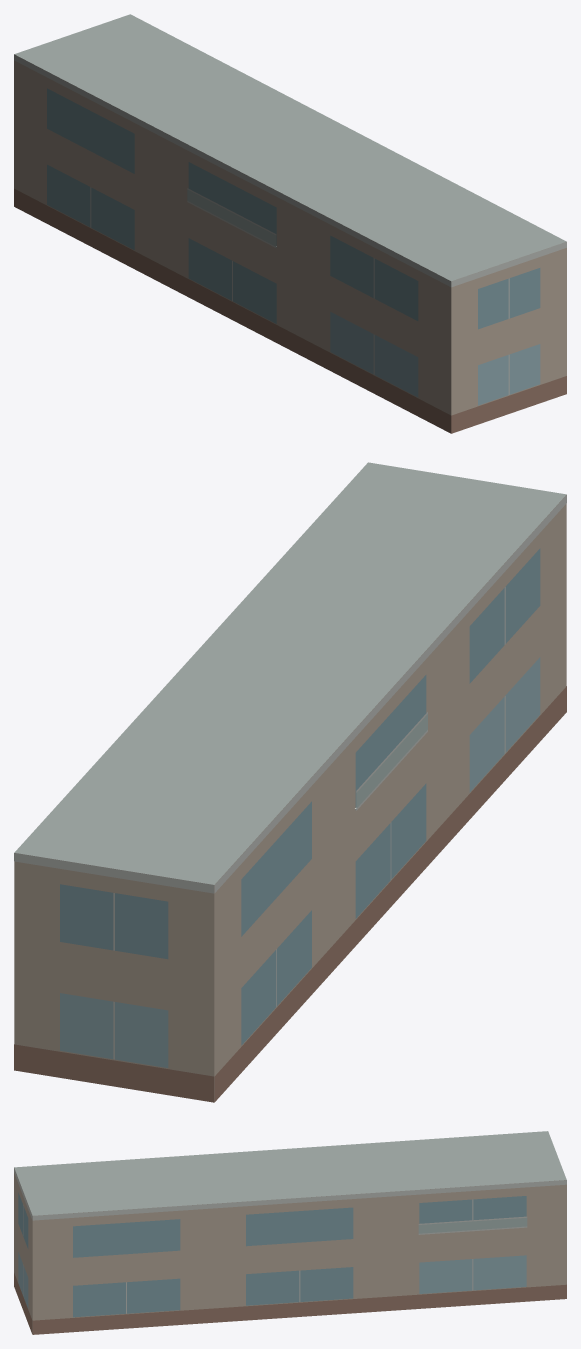
File: survey-upis-32817505.glb
The picture shows the model from 3 angles, top to bottom: view 1: azimuth 30°, elevation 25°; view 2: azimuth 150°, elevation 25°; view 3: azimuth 270°, elevation 25°; orthographic projection. The views are drawn at different scales.
Visible parts, largest first — view 1: survey-upis-32817505.tmp; view 2: survey-upis-32817505.tmp; view 3: survey-upis-32817505.tmp.
Part boxes in pixels (box(x1,y1,x2,y2)): survey-upis-32817505.tmp: box(14, 14, 566, 433); survey-upis-32817505.tmp: box(14, 462, 566, 1102); survey-upis-32817505.tmp: box(14, 1131, 566, 1334).
Size of the model in its own units: 9.33 by 6.1 by 25.69.
